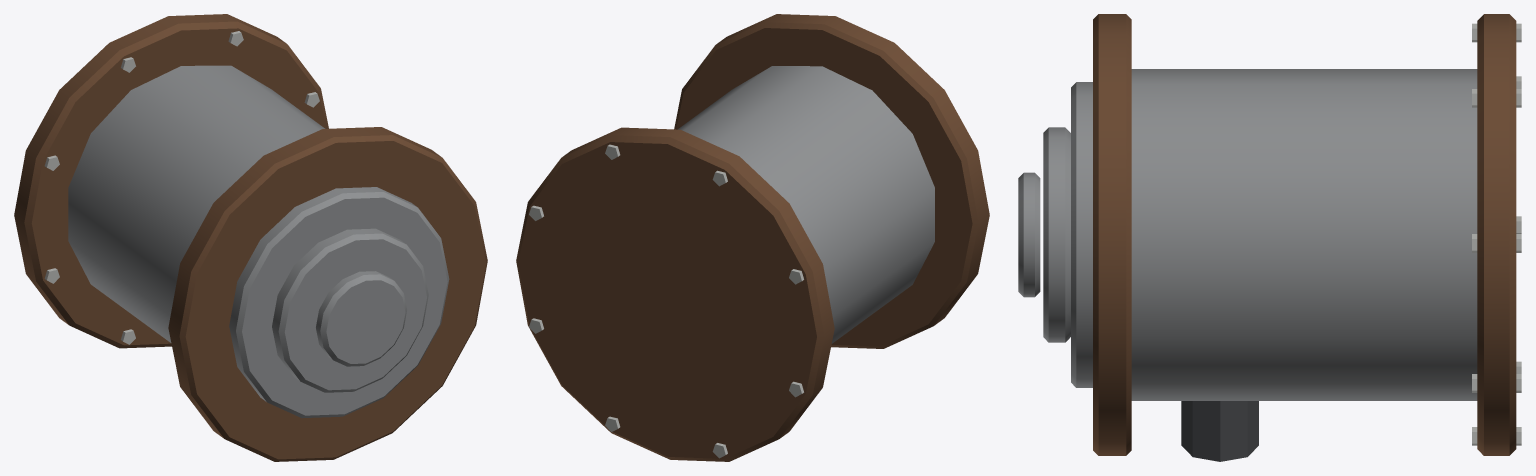
File: pipe-ending-up.glb
3 renders of one model, left to right at view 1: azimuth 30°, elevation 25°; view 2: azimuth 150°, elevation 25°; view 3: azimuth 270°, elevation 25°, orthographic. The views are drawn at different scales.
Visible parts, largest first — view 1: body; view 2: body; view 3: body.
Boxes of the visible parts, <box> form: body: <box>14,14,487,461</box>; body: <box>516,14,989,461</box>; body: <box>1018,14,1521,461</box>.
Size of the model in its own units: 0.8 by 0.82 by 0.91.
